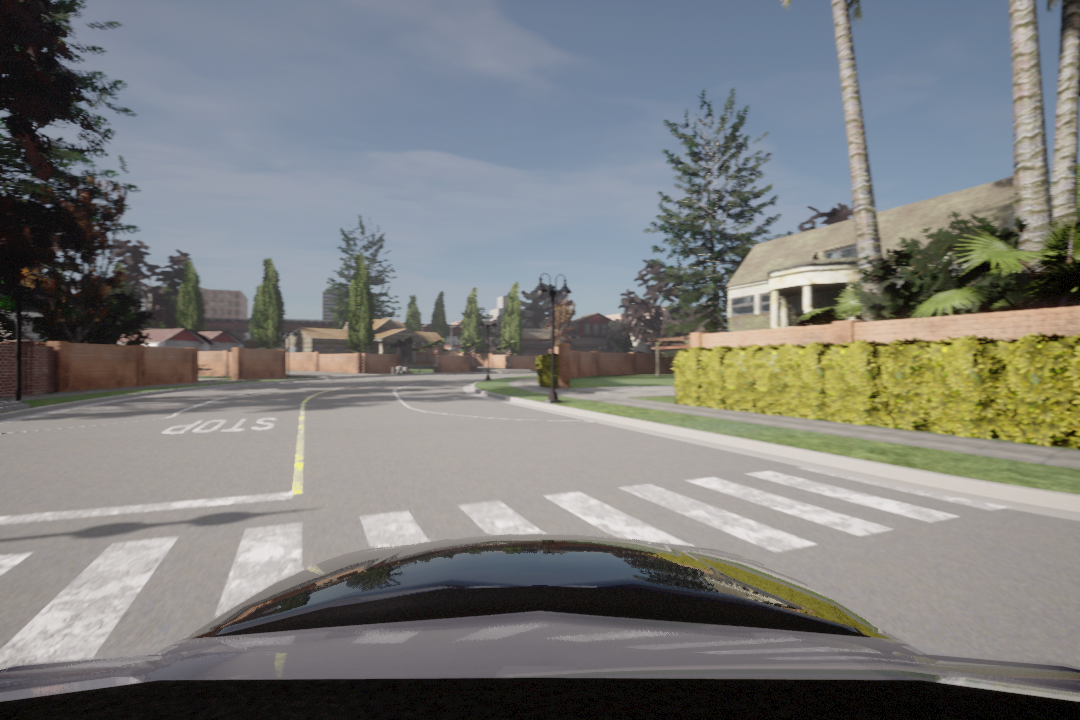walkside: (1, 469, 1015, 669)
